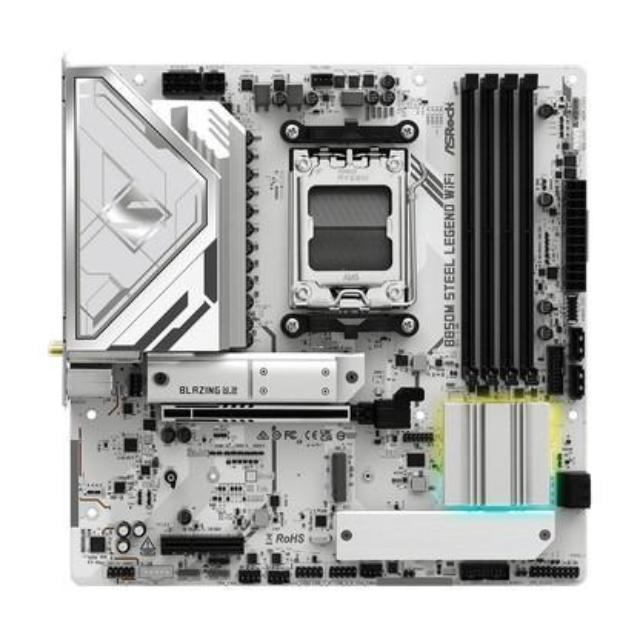Mainboard: (50, 40, 602, 606)
